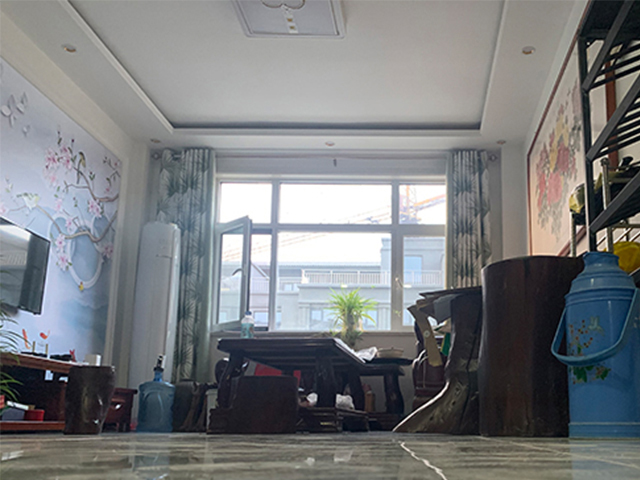cabinet: (1, 350, 138, 433)
curtain: (174, 148, 215, 381), (445, 144, 487, 291)
stool: (479, 255, 565, 439), (391, 292, 480, 436), (63, 364, 116, 436), (176, 381, 215, 432)
table: (206, 337, 370, 434)
